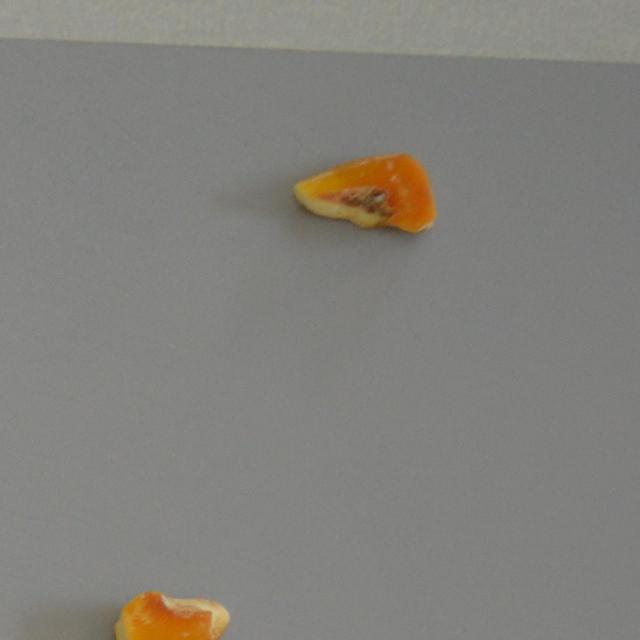dañado: (286, 142, 440, 240), (104, 584, 240, 640)
